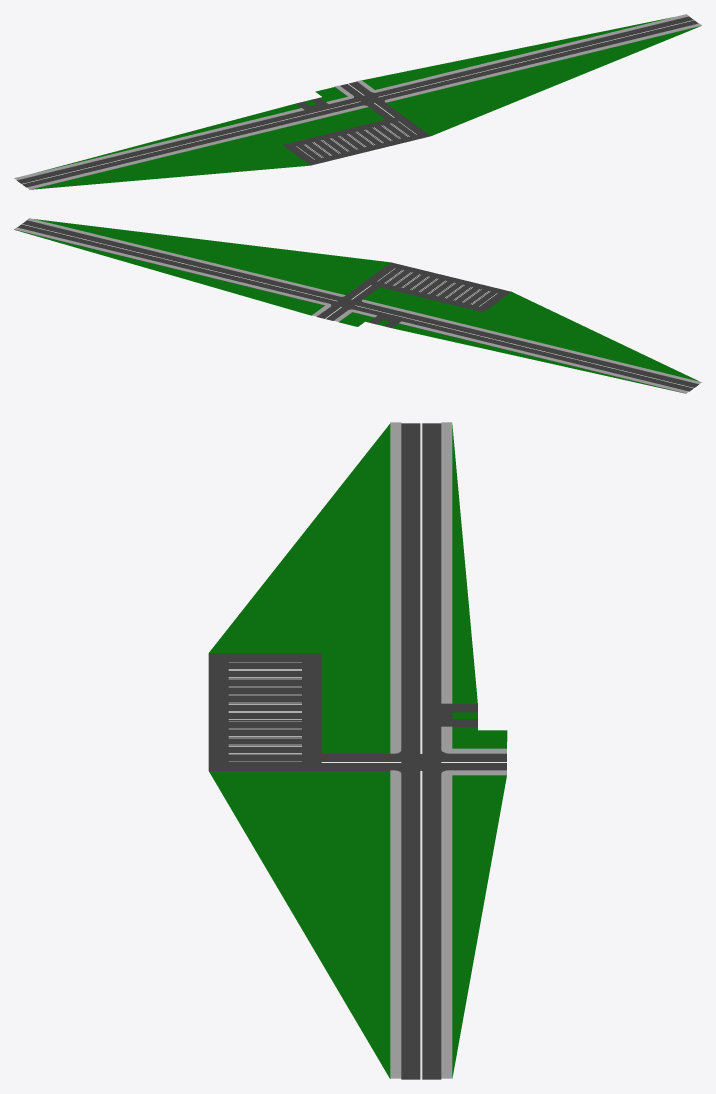
Rendered from Road.fbx.
The picture shows the model from 3 angles, top to bottom: view 1: azimuth 30°, elevation 25°; view 2: azimuth 150°, elevation 25°; view 3: azimuth 270°, elevation 25°; orthographic projection. The views are drawn at different scales.
Visible parts, largest first — view 1: Plane; view 2: Plane; view 3: Plane.
Part boxes in pixels (x1,y1,x2,y2): Plane: (14,14,701,189); Plane: (14,218,701,393); Plane: (208,422,507,1079).
Bounding box in the file's own units: 28080 × 15 × 5401.
